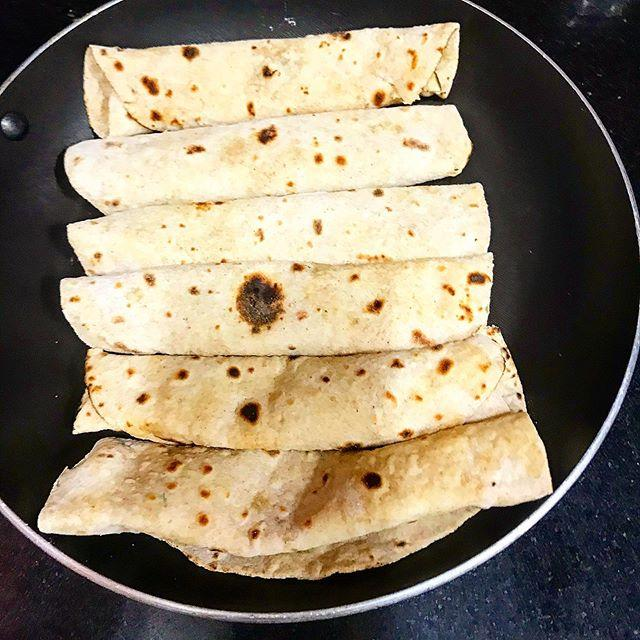Roti: (39, 432, 572, 540), (46, 332, 546, 439), (46, 180, 536, 274), (28, 261, 519, 348), (63, 22, 478, 121), (41, 112, 544, 186)
